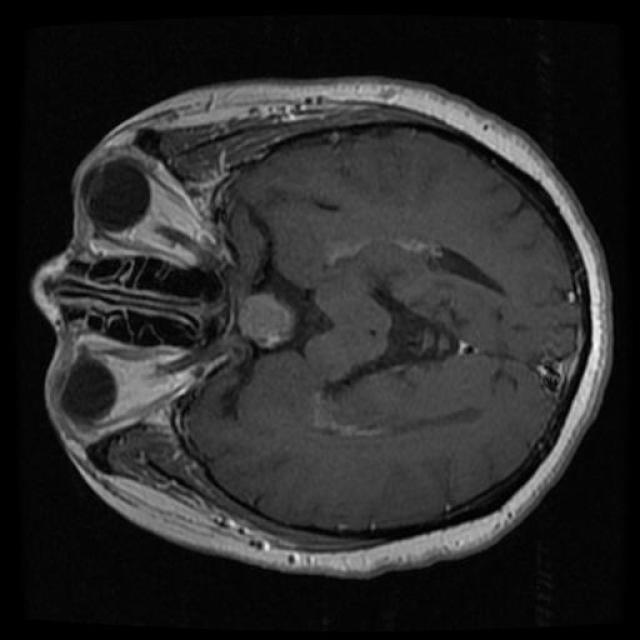Pituitary: (239, 294, 294, 348)
